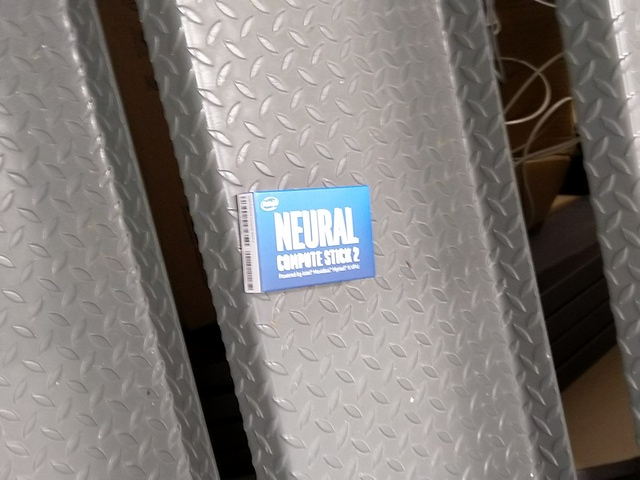box: (235, 185, 379, 295)
